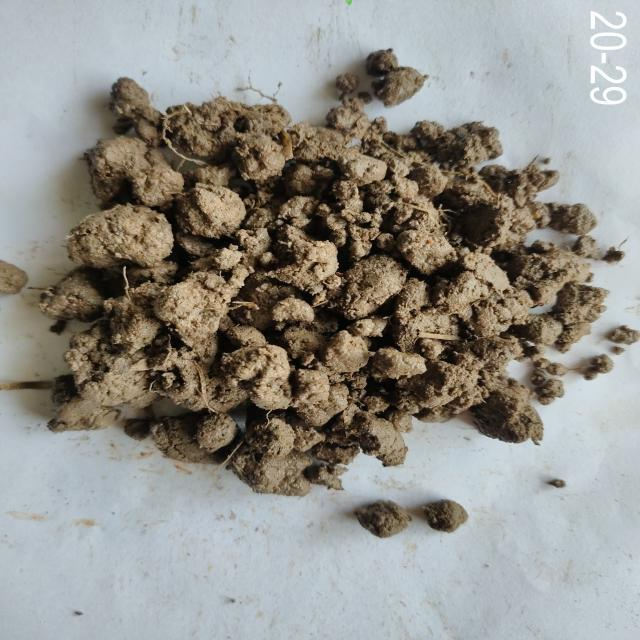soil: (166, 155, 484, 418)
